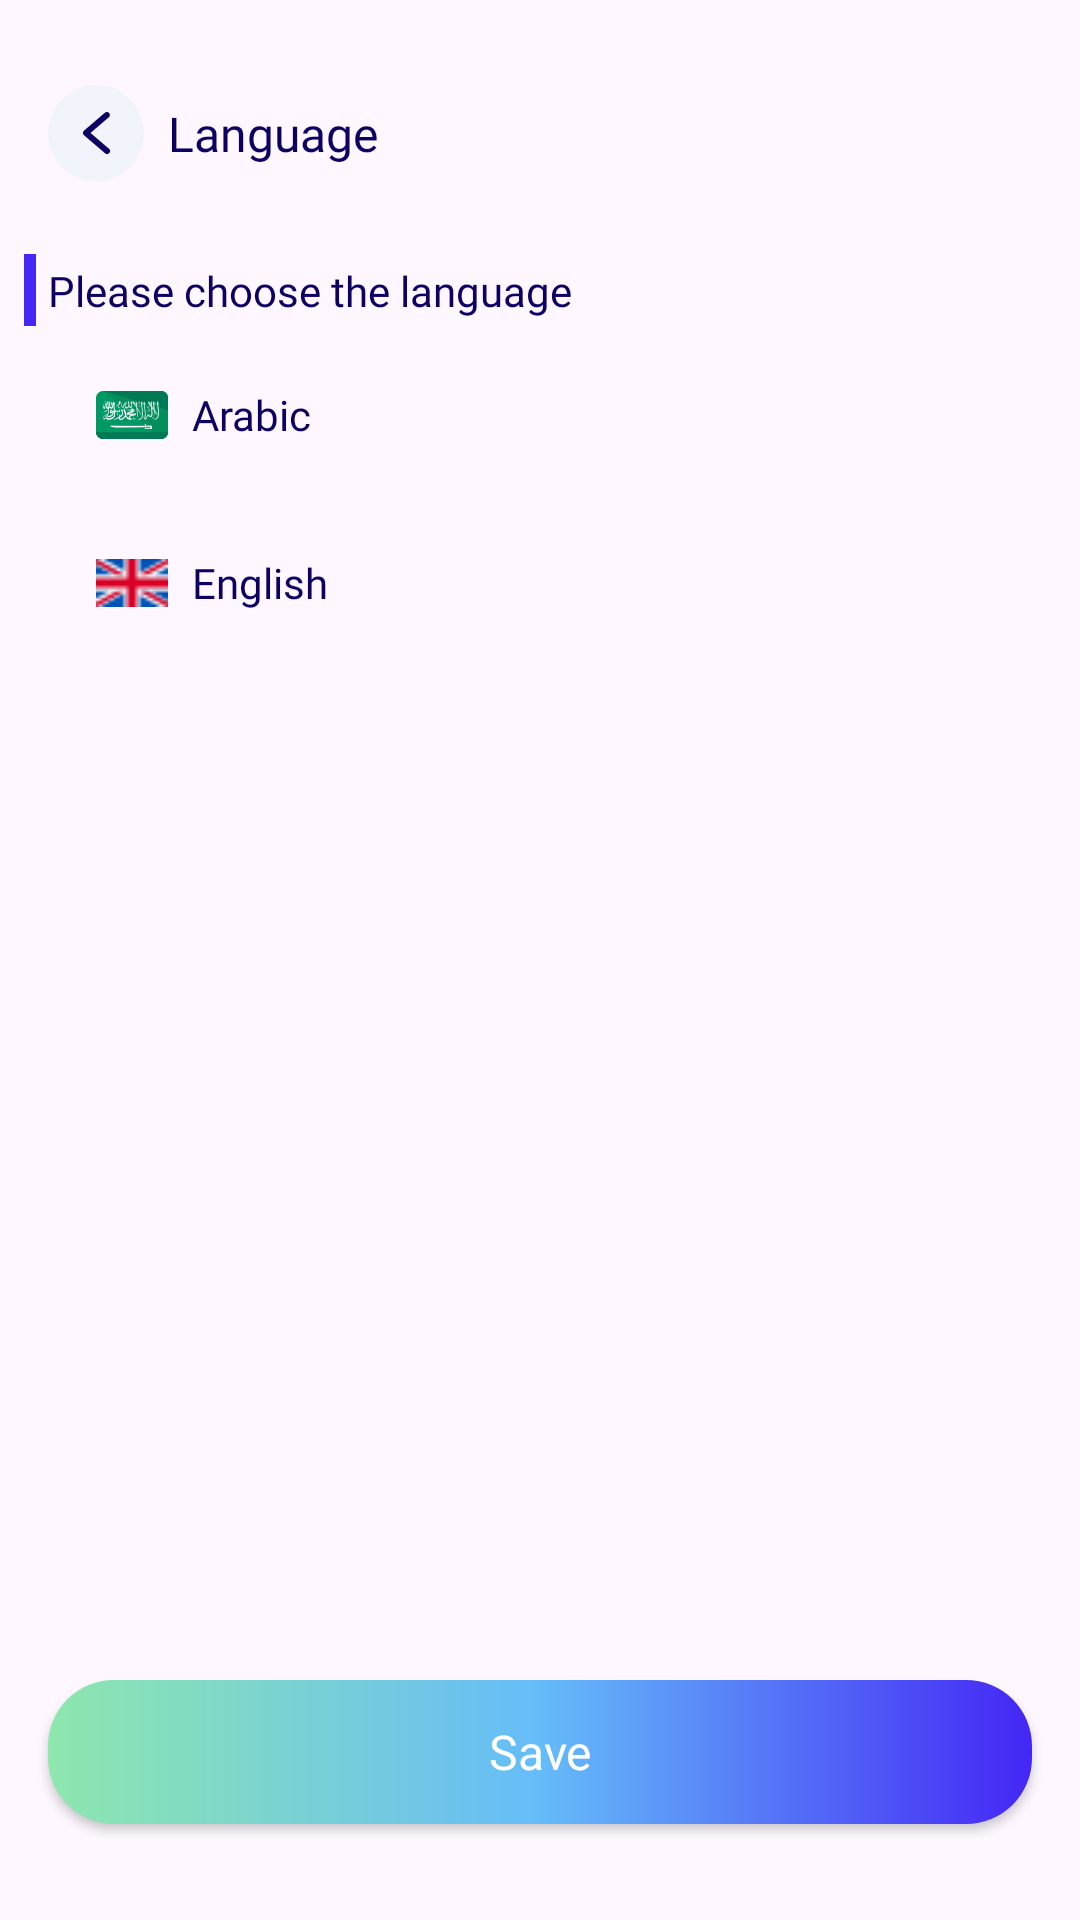

Named icons in this screenshot (1080*1920) and their bounding boxes, (x1, y1, x2, y2):
Back Arrow: (48, 85, 144, 181)
